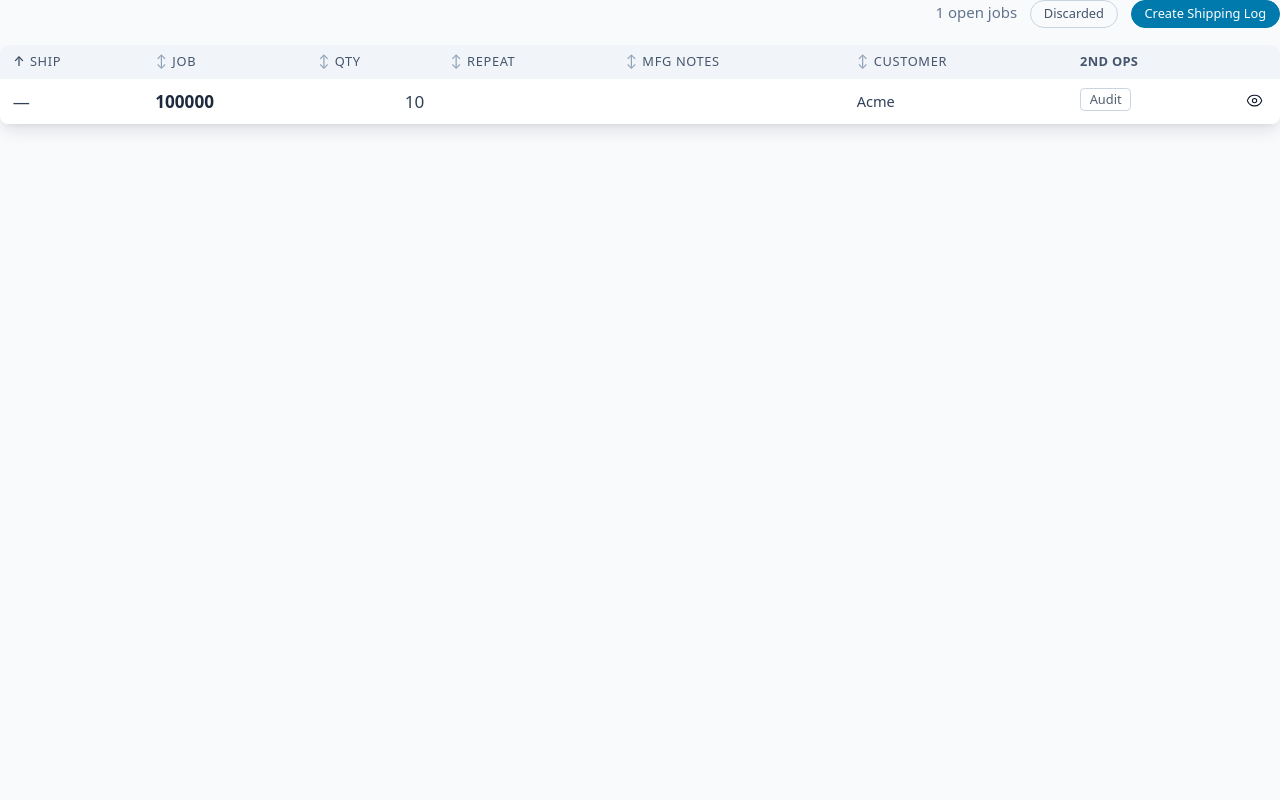
ShippingView — 2nd OPS column › opens the entry modal from the Audit button on an unaudited job
Click the button with test id "second-ops-audit-btn".
click(1106, 99)  # box [1080,88,1131,111]
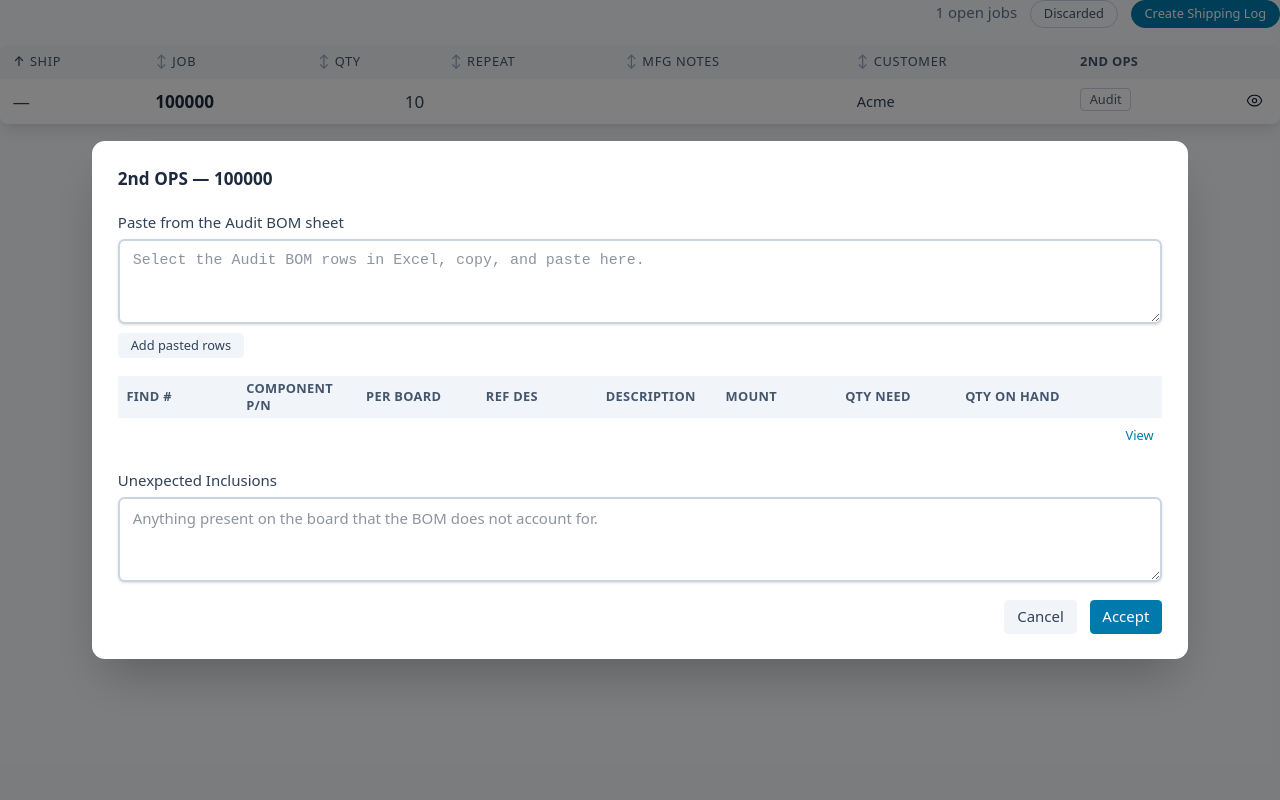
Result: the element with test id "second-ops-entry-modal" is shown
Result: the text box with test id "second-ops-paste-area" is shown at [118,239,1162,324]
